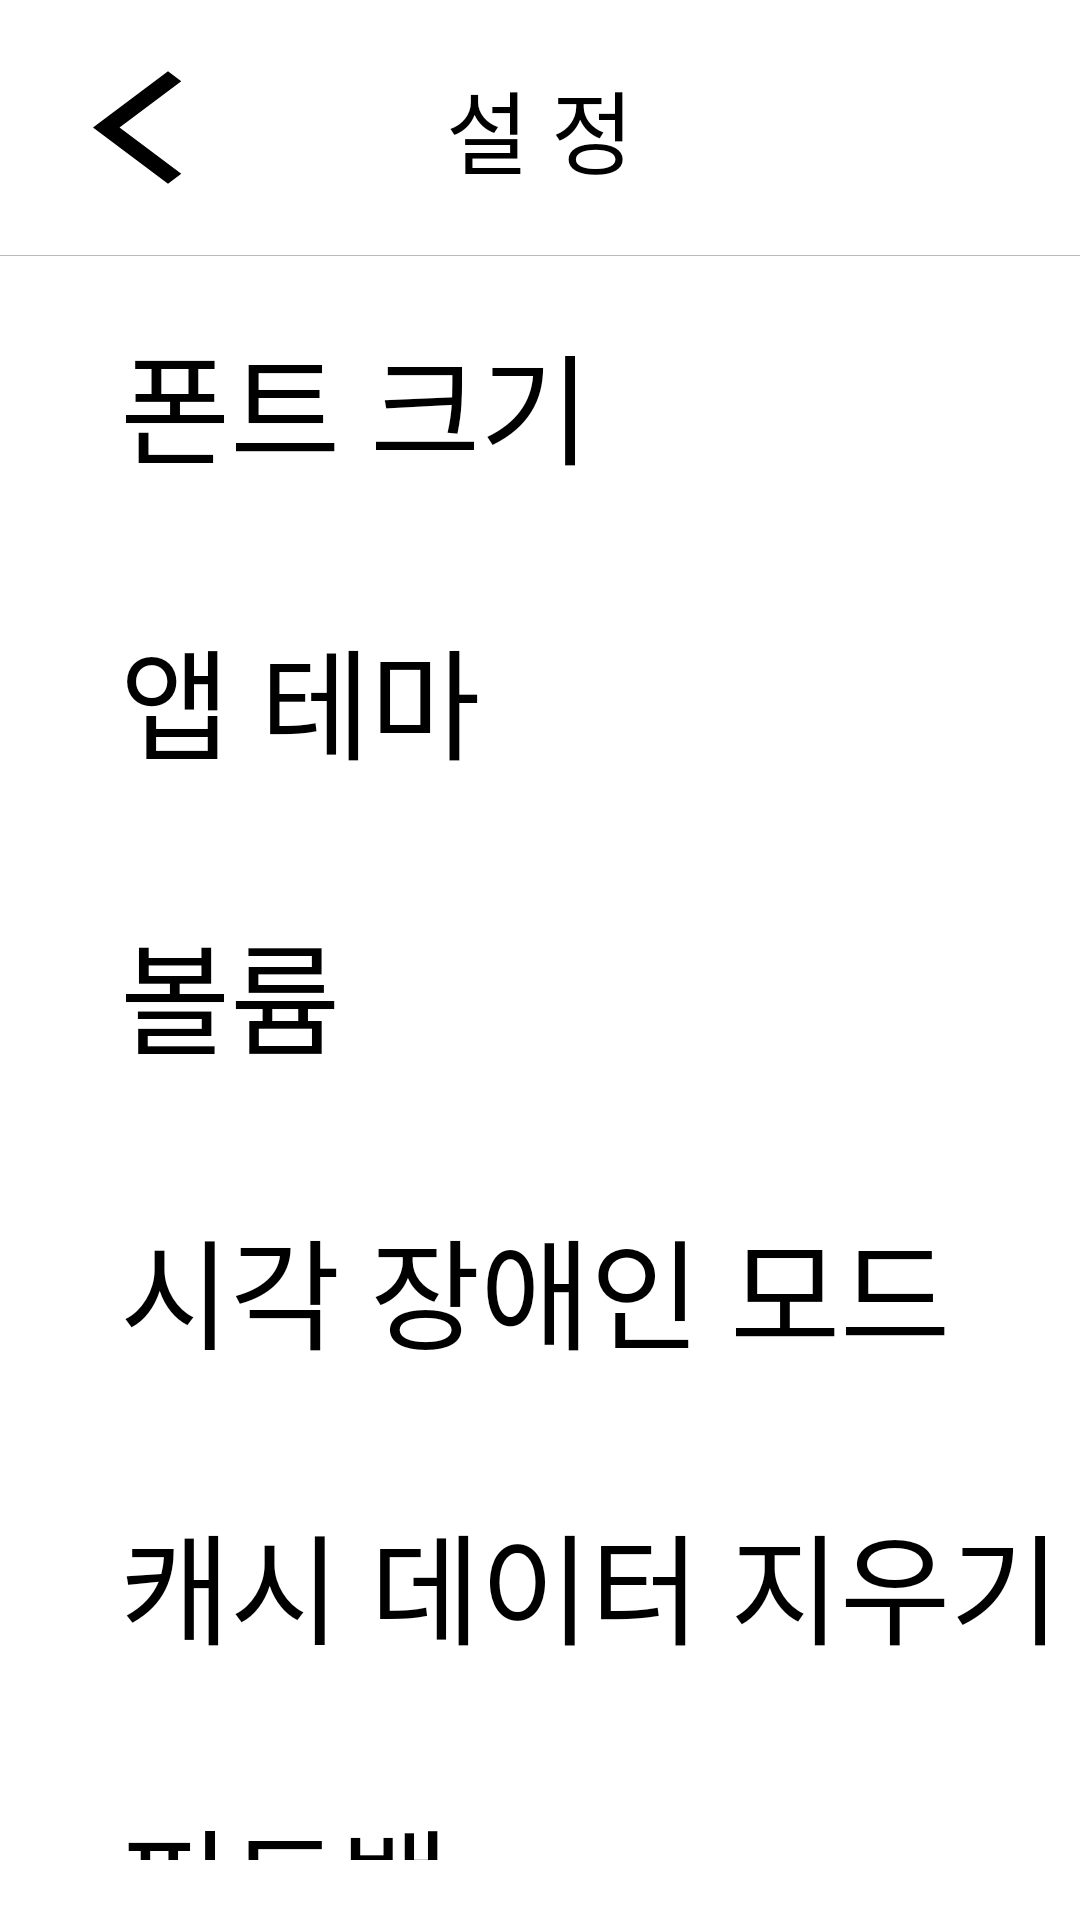

Where to tap for icons on this 1080x1920 app screen, as (x,y):
arrow back: (137,127)
